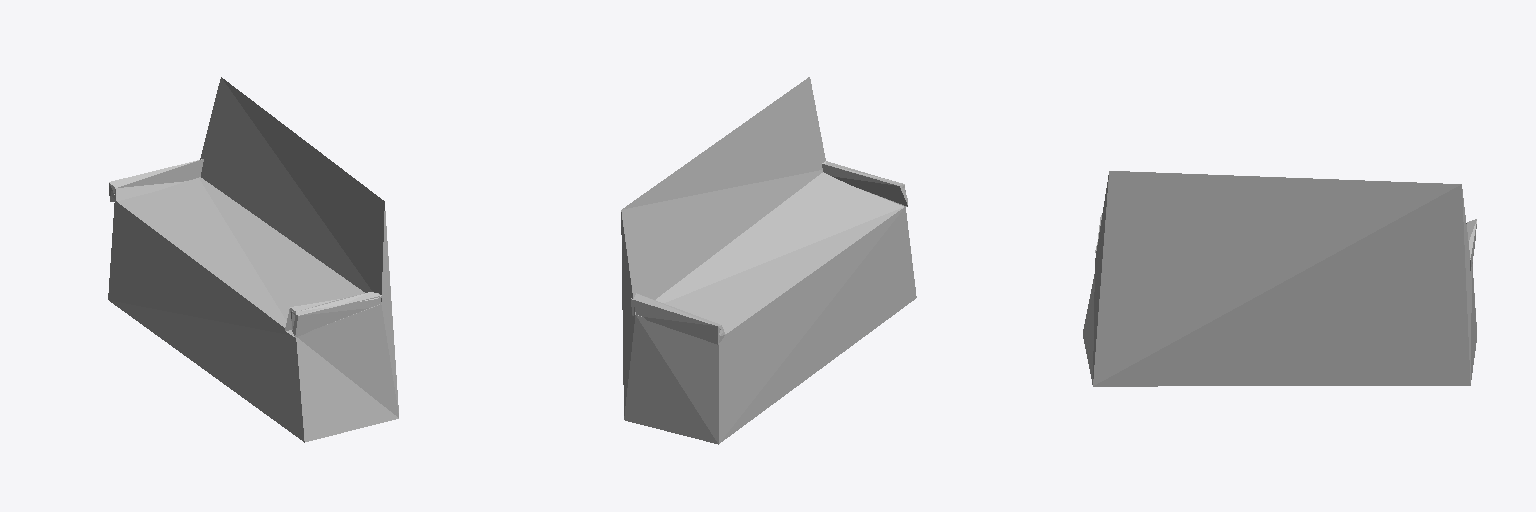
Rendered from sofa.obj.
The picture shows the model from 3 angles: view 1: azimuth 30°, elevation 25°; view 2: azimuth 150°, elevation 25°; view 3: azimuth 270°, elevation 25°; orthographic projection.
Parts seen in each view (by area): view 1: Cube; view 2: Cube; view 3: Cube.
Part boxes in pixels (left/top/right/bottom): Cube: left=108, top=77, right=398, bottom=442; Cube: left=621, top=77, right=916, bottom=444; Cube: left=1083, top=171, right=1476, bottom=386.
Bounding box in the file's own units: 2.31 × 4.21 × 7.07.